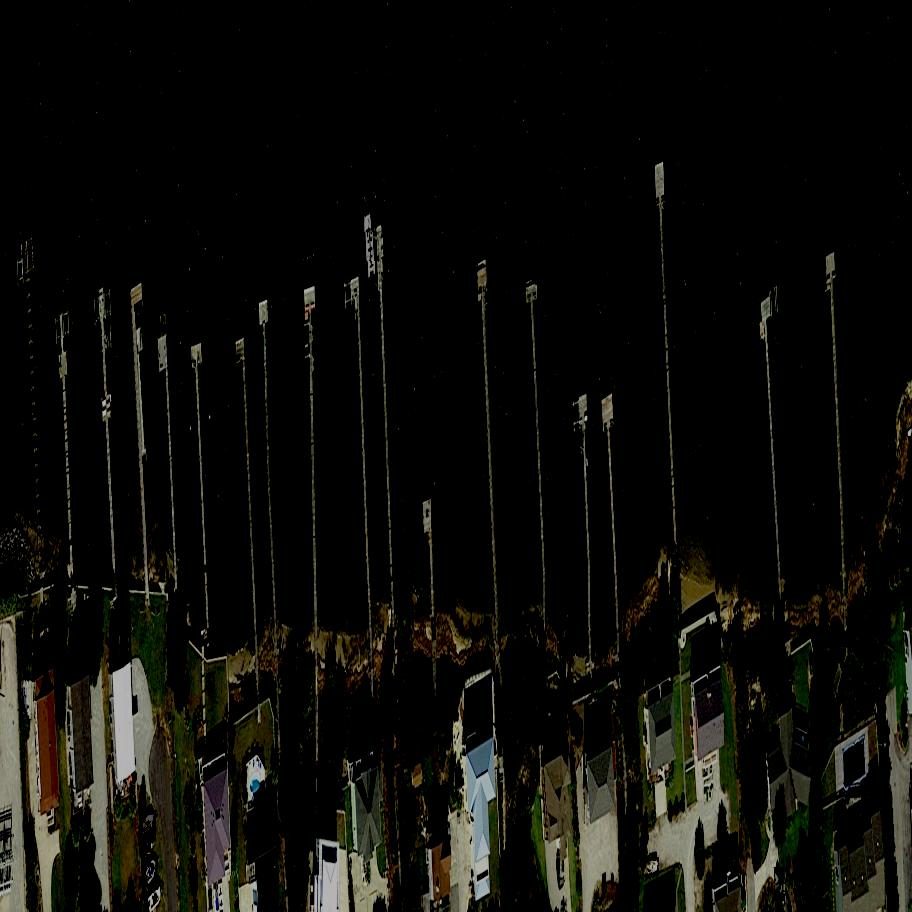ship: (364, 209, 378, 283), (141, 855, 164, 889), (140, 810, 156, 842), (23, 681, 34, 719), (642, 856, 660, 879)
small-vehicle: (770, 867, 788, 900)
